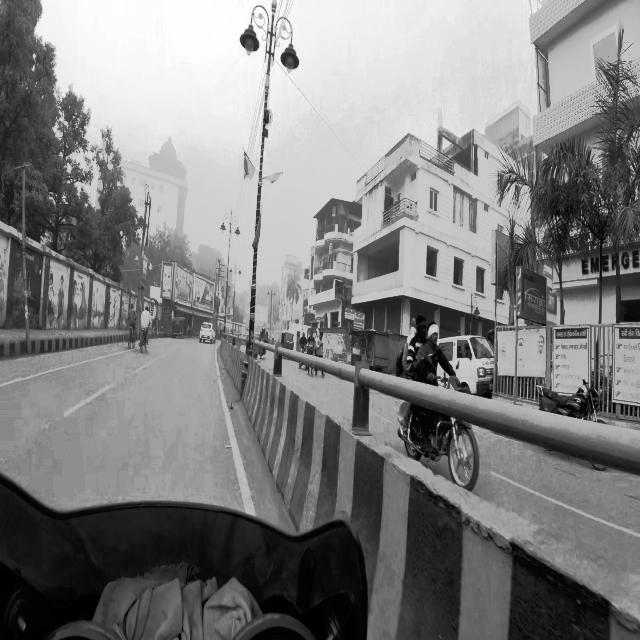Bike: (389, 320, 484, 494)
